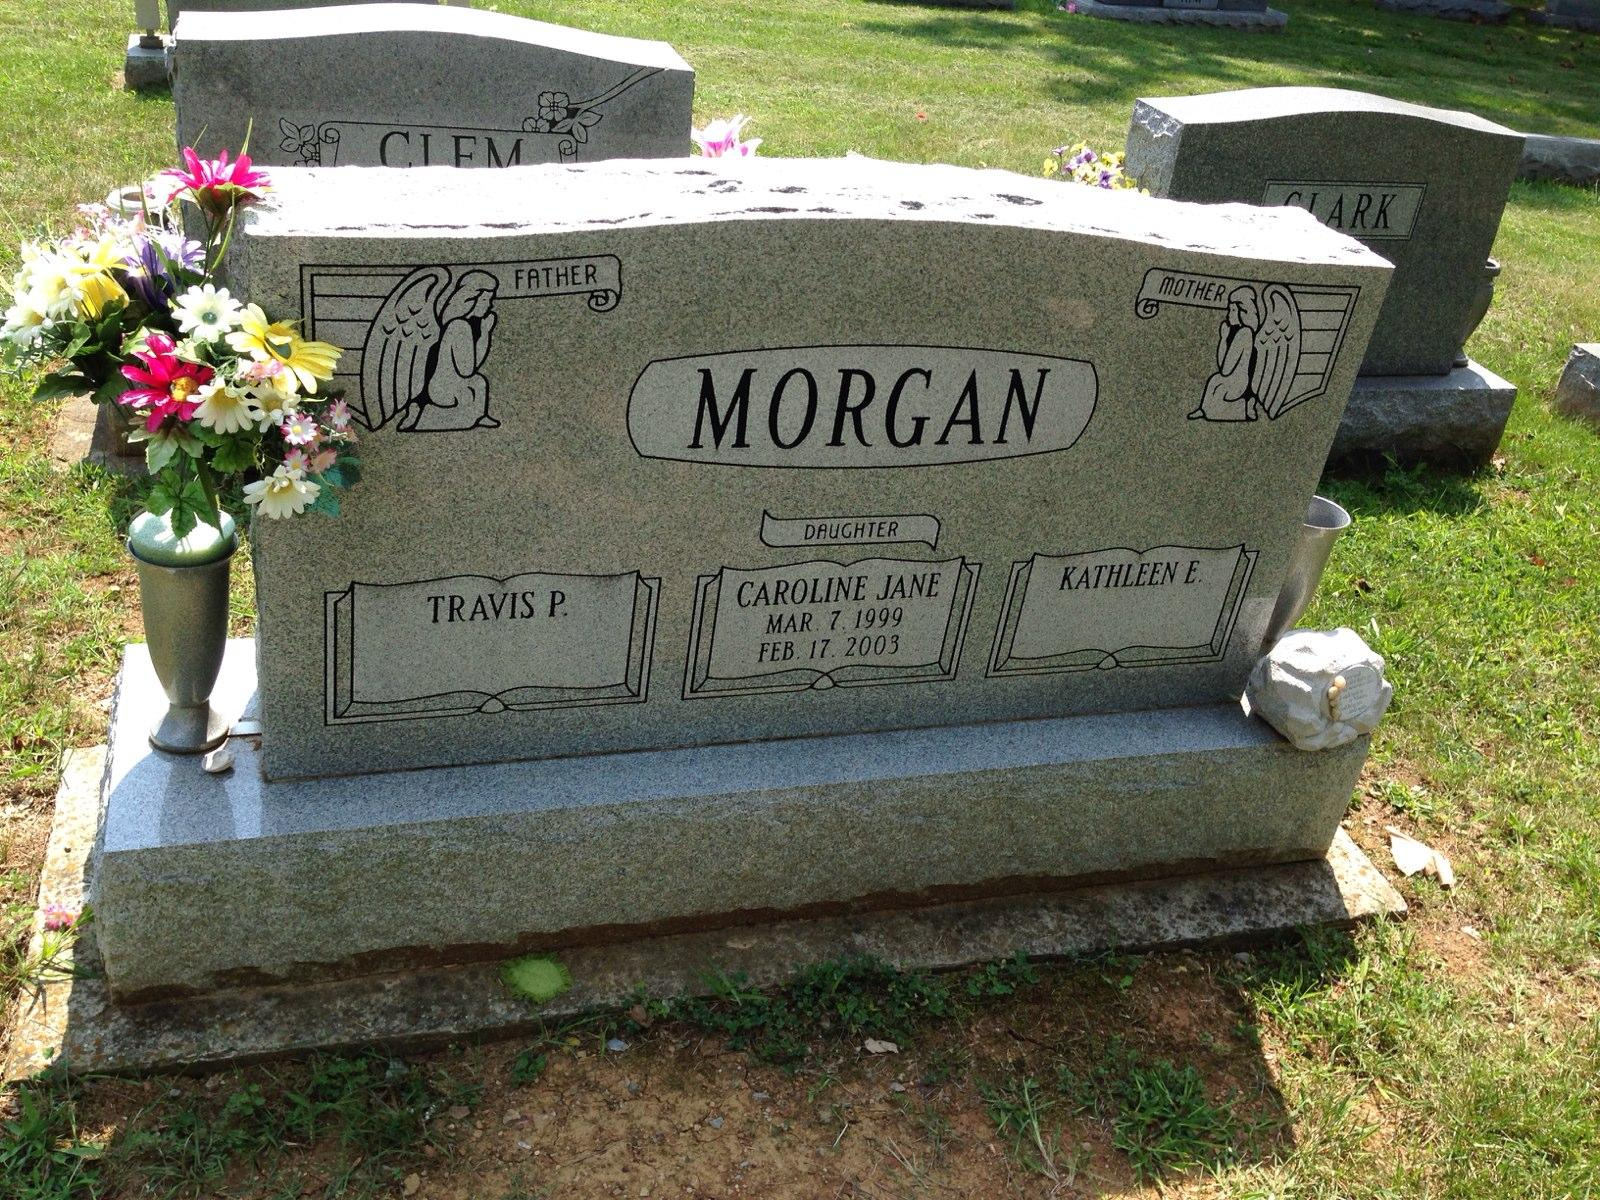upright: (35, 127, 1432, 1006)
